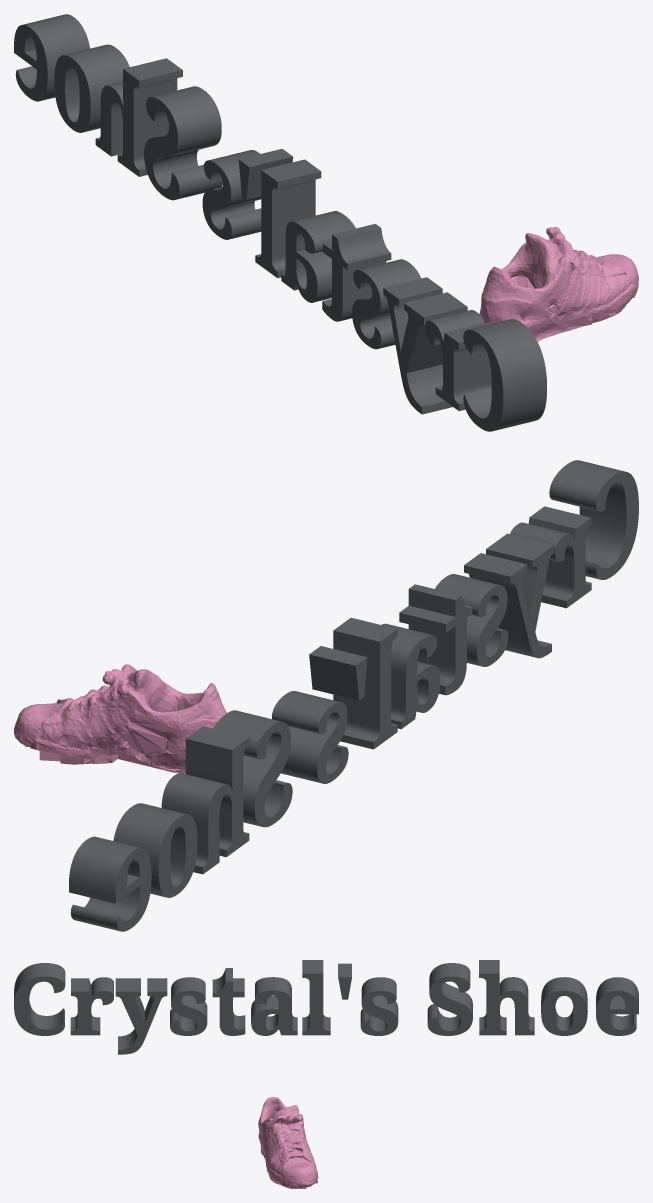
Rendered from tinker_shoe.glb.
The picture shows the model from 3 angles, top to bottom: view 1: azimuth 30°, elevation 25°; view 2: azimuth 150°, elevation 25°; view 3: azimuth 270°, elevation 25°; orthographic projection. The views are drawn at different scales.
Parts seen in each view (by area): view 1: Mesh_Mesh_head_geo.001_lambert2SG.001; view 2: Mesh_Mesh_head_geo.001_lambert2SG.001; view 3: Mesh_Mesh_head_geo.001_lambert2SG.001.
Part boxes in pixels (left/top/right/bottom): Mesh_Mesh_head_geo.001_lambert2SG.001: left=14, top=14, right=638, bottom=431; Mesh_Mesh_head_geo.001_lambert2SG.001: left=14, top=460, right=638, bottom=931; Mesh_Mesh_head_geo.001_lambert2SG.001: left=14, top=960, right=638, bottom=1188.
Bounding box in the file's own units: 81.67 × 42.12 × 194.
